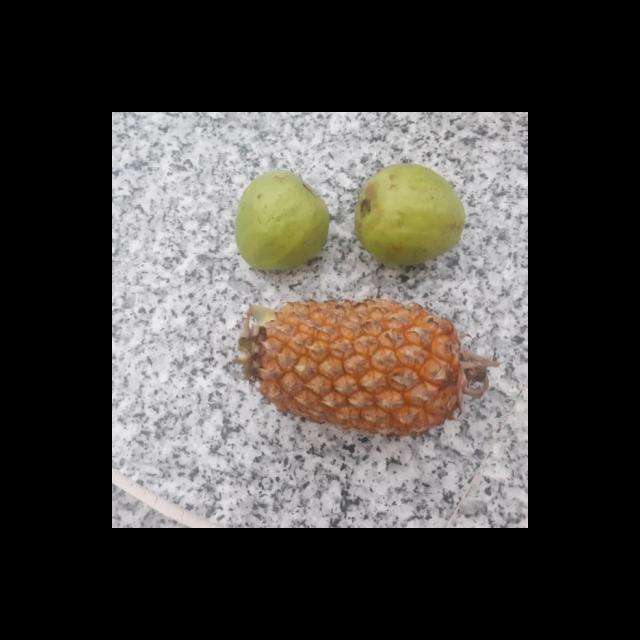guava: (350, 165, 465, 262), (232, 172, 332, 268)
pineapple: (238, 297, 479, 438)
